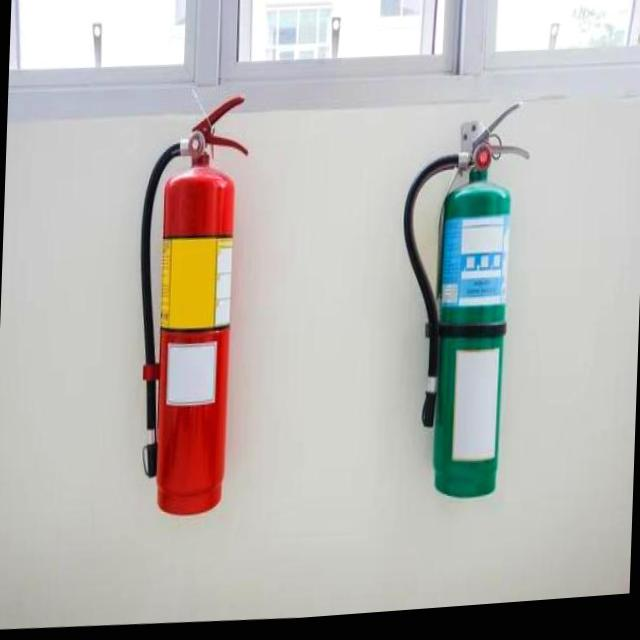FireExtinguisher: (389, 96, 534, 514), (126, 89, 254, 527)
